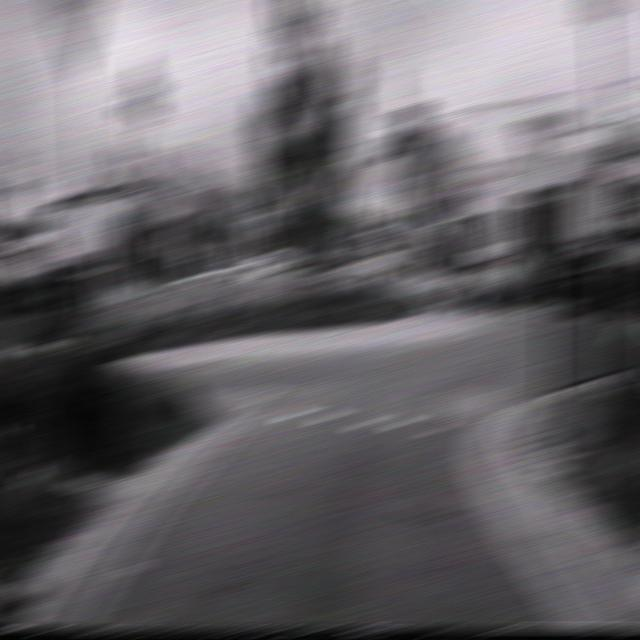yield: (512, 112, 576, 196)
